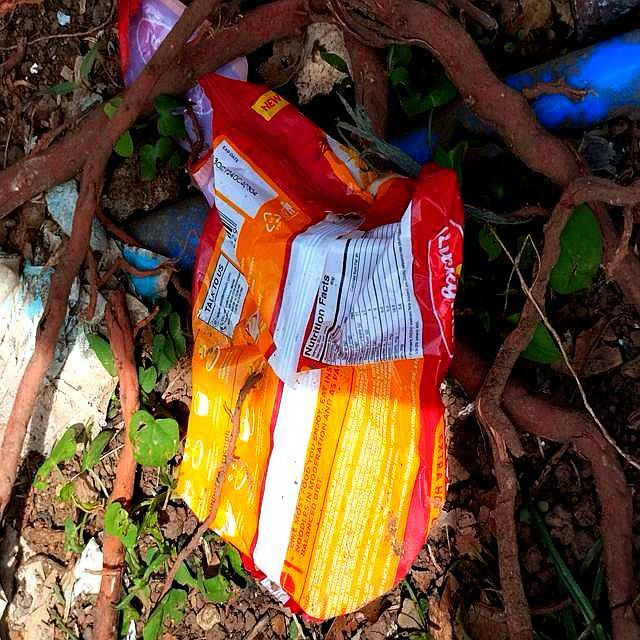Non-biodegradable: (179, 69, 471, 640)
